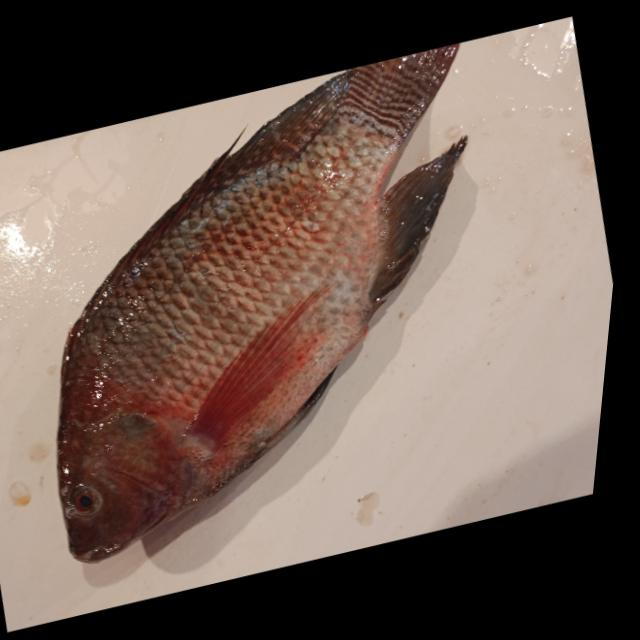Tilapia: (0, 36, 565, 569)
